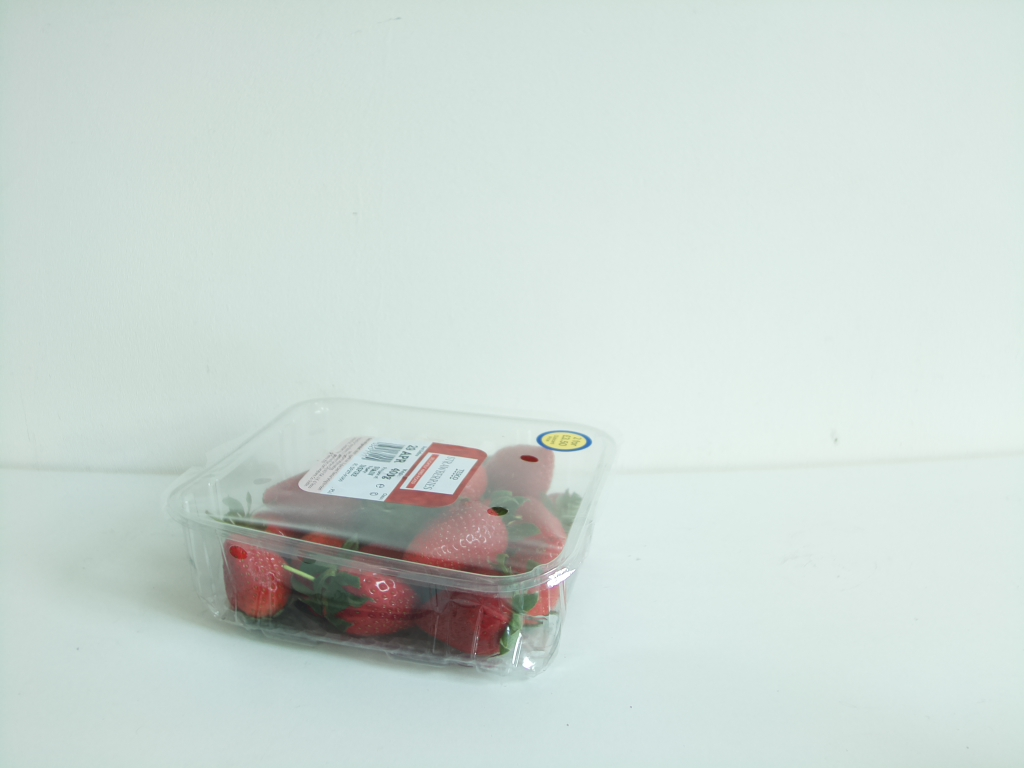soft-fruit: (159, 387, 610, 684)
